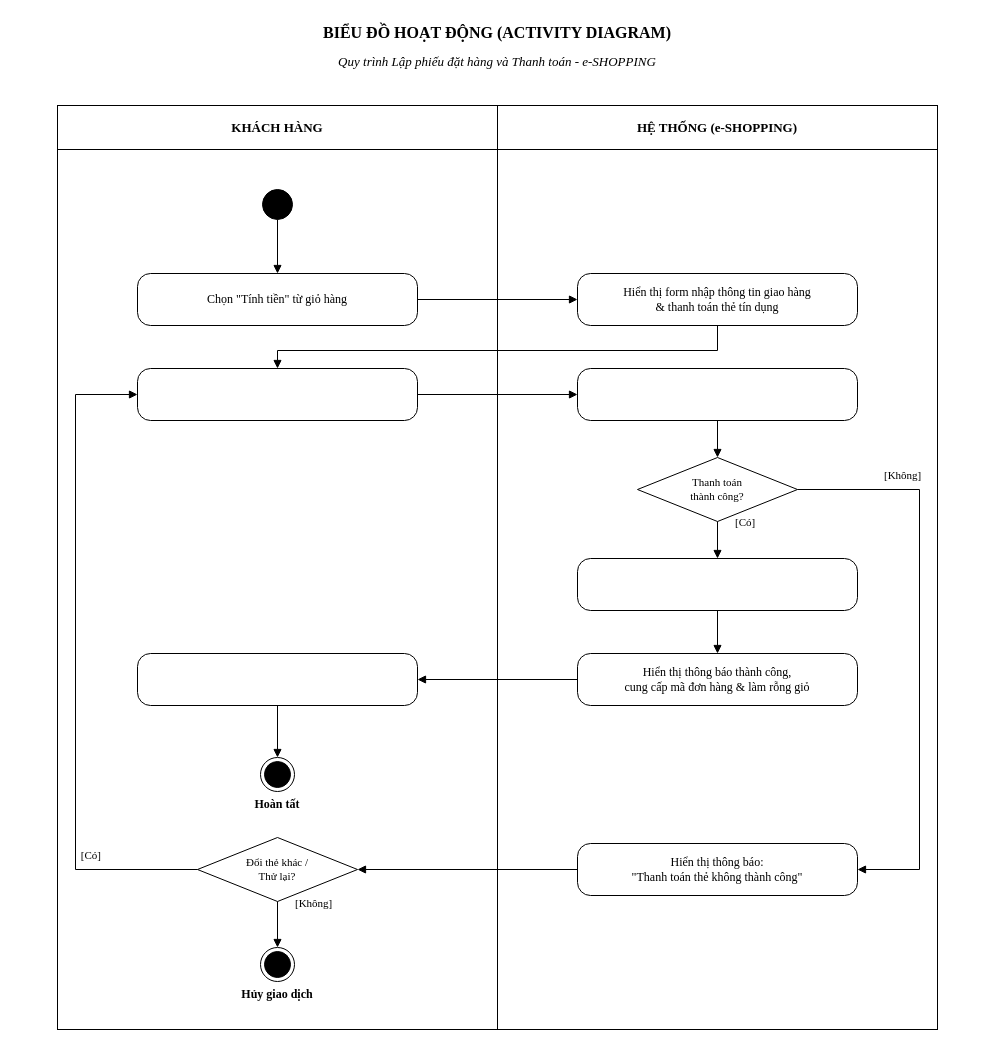
Some shapes in this 994 by 1047 pixel diagram are drawn without their labels. Here are the shapes that lost their labels. From the top down, the box of each, then its label:
(136, 368, 418, 420): Nhập thông tin người nhận, thông tin thẻ tín dụng & nhấn "Xác nhận"
(576, 368, 858, 420): Kiểm tra dữ liệu, tính tổng tiền & gửi xác thực sang DV Thanh toán
(576, 558, 858, 610): Lưu đơn hàng vào CSDL & kích hoạt gửi email xác nhận
(136, 652, 418, 706): Xem thông tin xác nhận kèm mã đơn hàng
